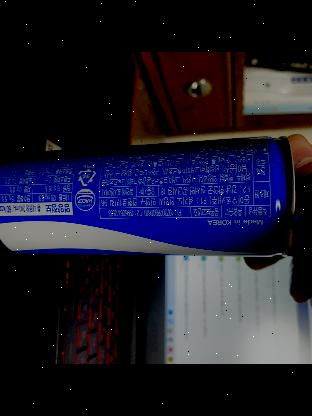Can: (0, 134, 294, 256)
